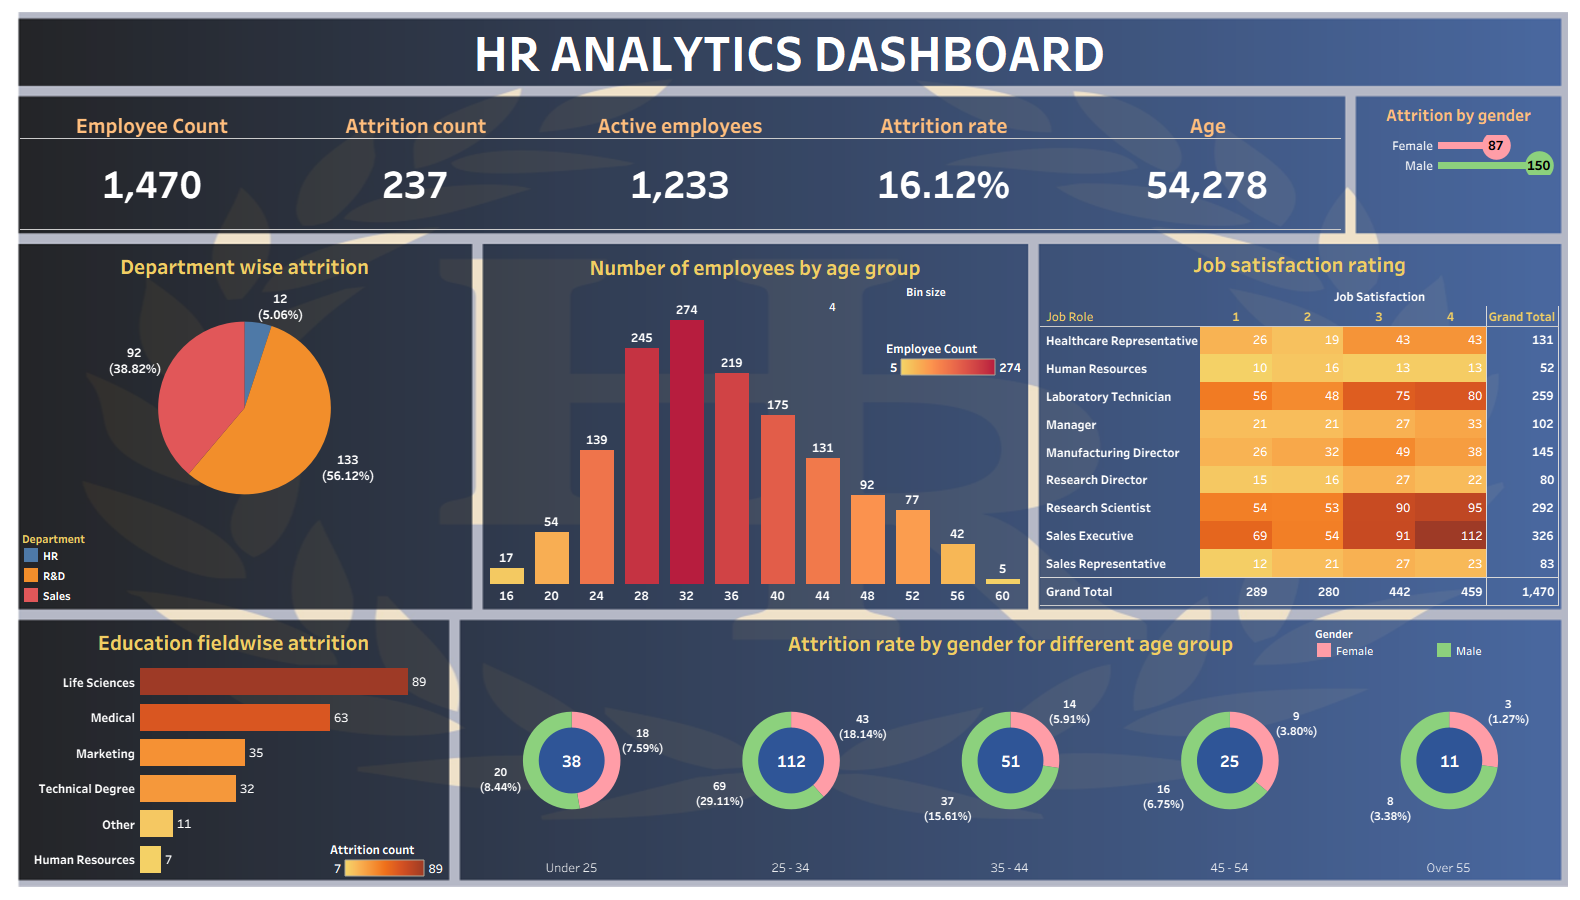

The page's visual inventory and layout, read from the dashboard file:
{"tool":"tableau","page":{"name":"HR Analytics dashboard","canvas":[1580,900],"ordinal":0},"visuals":[{"type":"image","param":"C:/Users/LENOVO/Downloads/HR background.pptx.png","box":[8,8,1564,884]},{"type":"text","box":[20,19,1539,64]},{"type":"worksheet","title":"KPI","mark":"Automatic","box":[20,98,1321,132]},{"type":"worksheet","title":"Attrition by gender","mark":"Bar","rows":["Gender"],"cols":["Calculation_958703828532416512","Calculation_958703828532416512"],"box":[1358,98,201,132]},{"type":"worksheet","title":"Job satisfaction rating","mark":"Square","rows":["Job Role"],"cols":["Job Satisfaction"],"box":[1040,244,519,362]},{"type":"worksheet","title":"Department wise attrition","mark":"Pie","box":[22,246,445,282]},{"type":"worksheet","title":"Number of employees by age group","mark":"Automatic","rows":["Employee Count"],"cols":["Age (bin)"],"box":[484,247,542,358]},{"type":"parameter","param":"[Parameters].[Parameter 1]","box":[827,283,198,43]},{"type":"legend","title":"Number of employees by age group","param":"[federated.0zp0jae0xw1eka12rdhlx1medumq].[sum:Employee Count:qk]","box":[886,336,140,44]},{"type":"legend","title":"Department wise attrition","param":"[federated.0zp0jae0xw1eka12rdhlx1medumq].[none:Department:nk]","box":[21,529,140,78]},{"type":"worksheet","title":"Education fieldwise attrition ","mark":"Automatic","rows":["Education Field"],"cols":["Calculation_958703828532416512"],"box":[20,622,427,255]},{"type":"worksheet","title":"Attrition rate by gender for different age group","mark":"Pie","rows":["Calculation_958703828593229832","Calculation_958703828593229832"],"cols":["CF_age band"],"box":[462,623,1097,254]},{"type":"legend","title":"Attrition rate by gender for different age group","param":"[federated.0zp0jae0xw1eka12rdhlx1medumq].[none:Gender:nk]","box":[1314,624,245,38]},{"type":"legend","title":"Education fieldwise attrition ","param":"[federated.0zp0jae0xw1eka12rdhlx1medumq].[sum:Calculation_958703828532416512:qk]","box":[330,837,118,42]}]}

Visuals, with their boxes in screenshot pixels (x1, y1, x2, y2), scaled from the page's 1580x900 canvas onto the 1580x900 screenshot:
image: (x1=8, y1=8, x2=1572, y2=892)
text: (x1=20, y1=19, x2=1559, y2=83)
"KPI" worksheet: (x1=20, y1=98, x2=1341, y2=230)
"Attrition by gender" worksheet (Bar marks): (x1=1358, y1=98, x2=1559, y2=230)
"Job satisfaction rating" worksheet (Square marks): (x1=1040, y1=244, x2=1559, y2=606)
"Department wise attrition" worksheet (Pie marks): (x1=22, y1=246, x2=467, y2=528)
"Number of employees by age group" worksheet: (x1=484, y1=247, x2=1026, y2=605)
parameter: (x1=827, y1=283, x2=1025, y2=326)
"Number of employees by age group" legend: (x1=886, y1=336, x2=1026, y2=380)
"Department wise attrition" legend: (x1=21, y1=529, x2=161, y2=607)
"Education fieldwise attrition " worksheet: (x1=20, y1=622, x2=447, y2=877)
"Attrition rate by gender for different age group" worksheet (Pie marks): (x1=462, y1=623, x2=1559, y2=877)
"Attrition rate by gender for different age group" legend: (x1=1314, y1=624, x2=1559, y2=662)
"Education fieldwise attrition " legend: (x1=330, y1=837, x2=448, y2=879)
